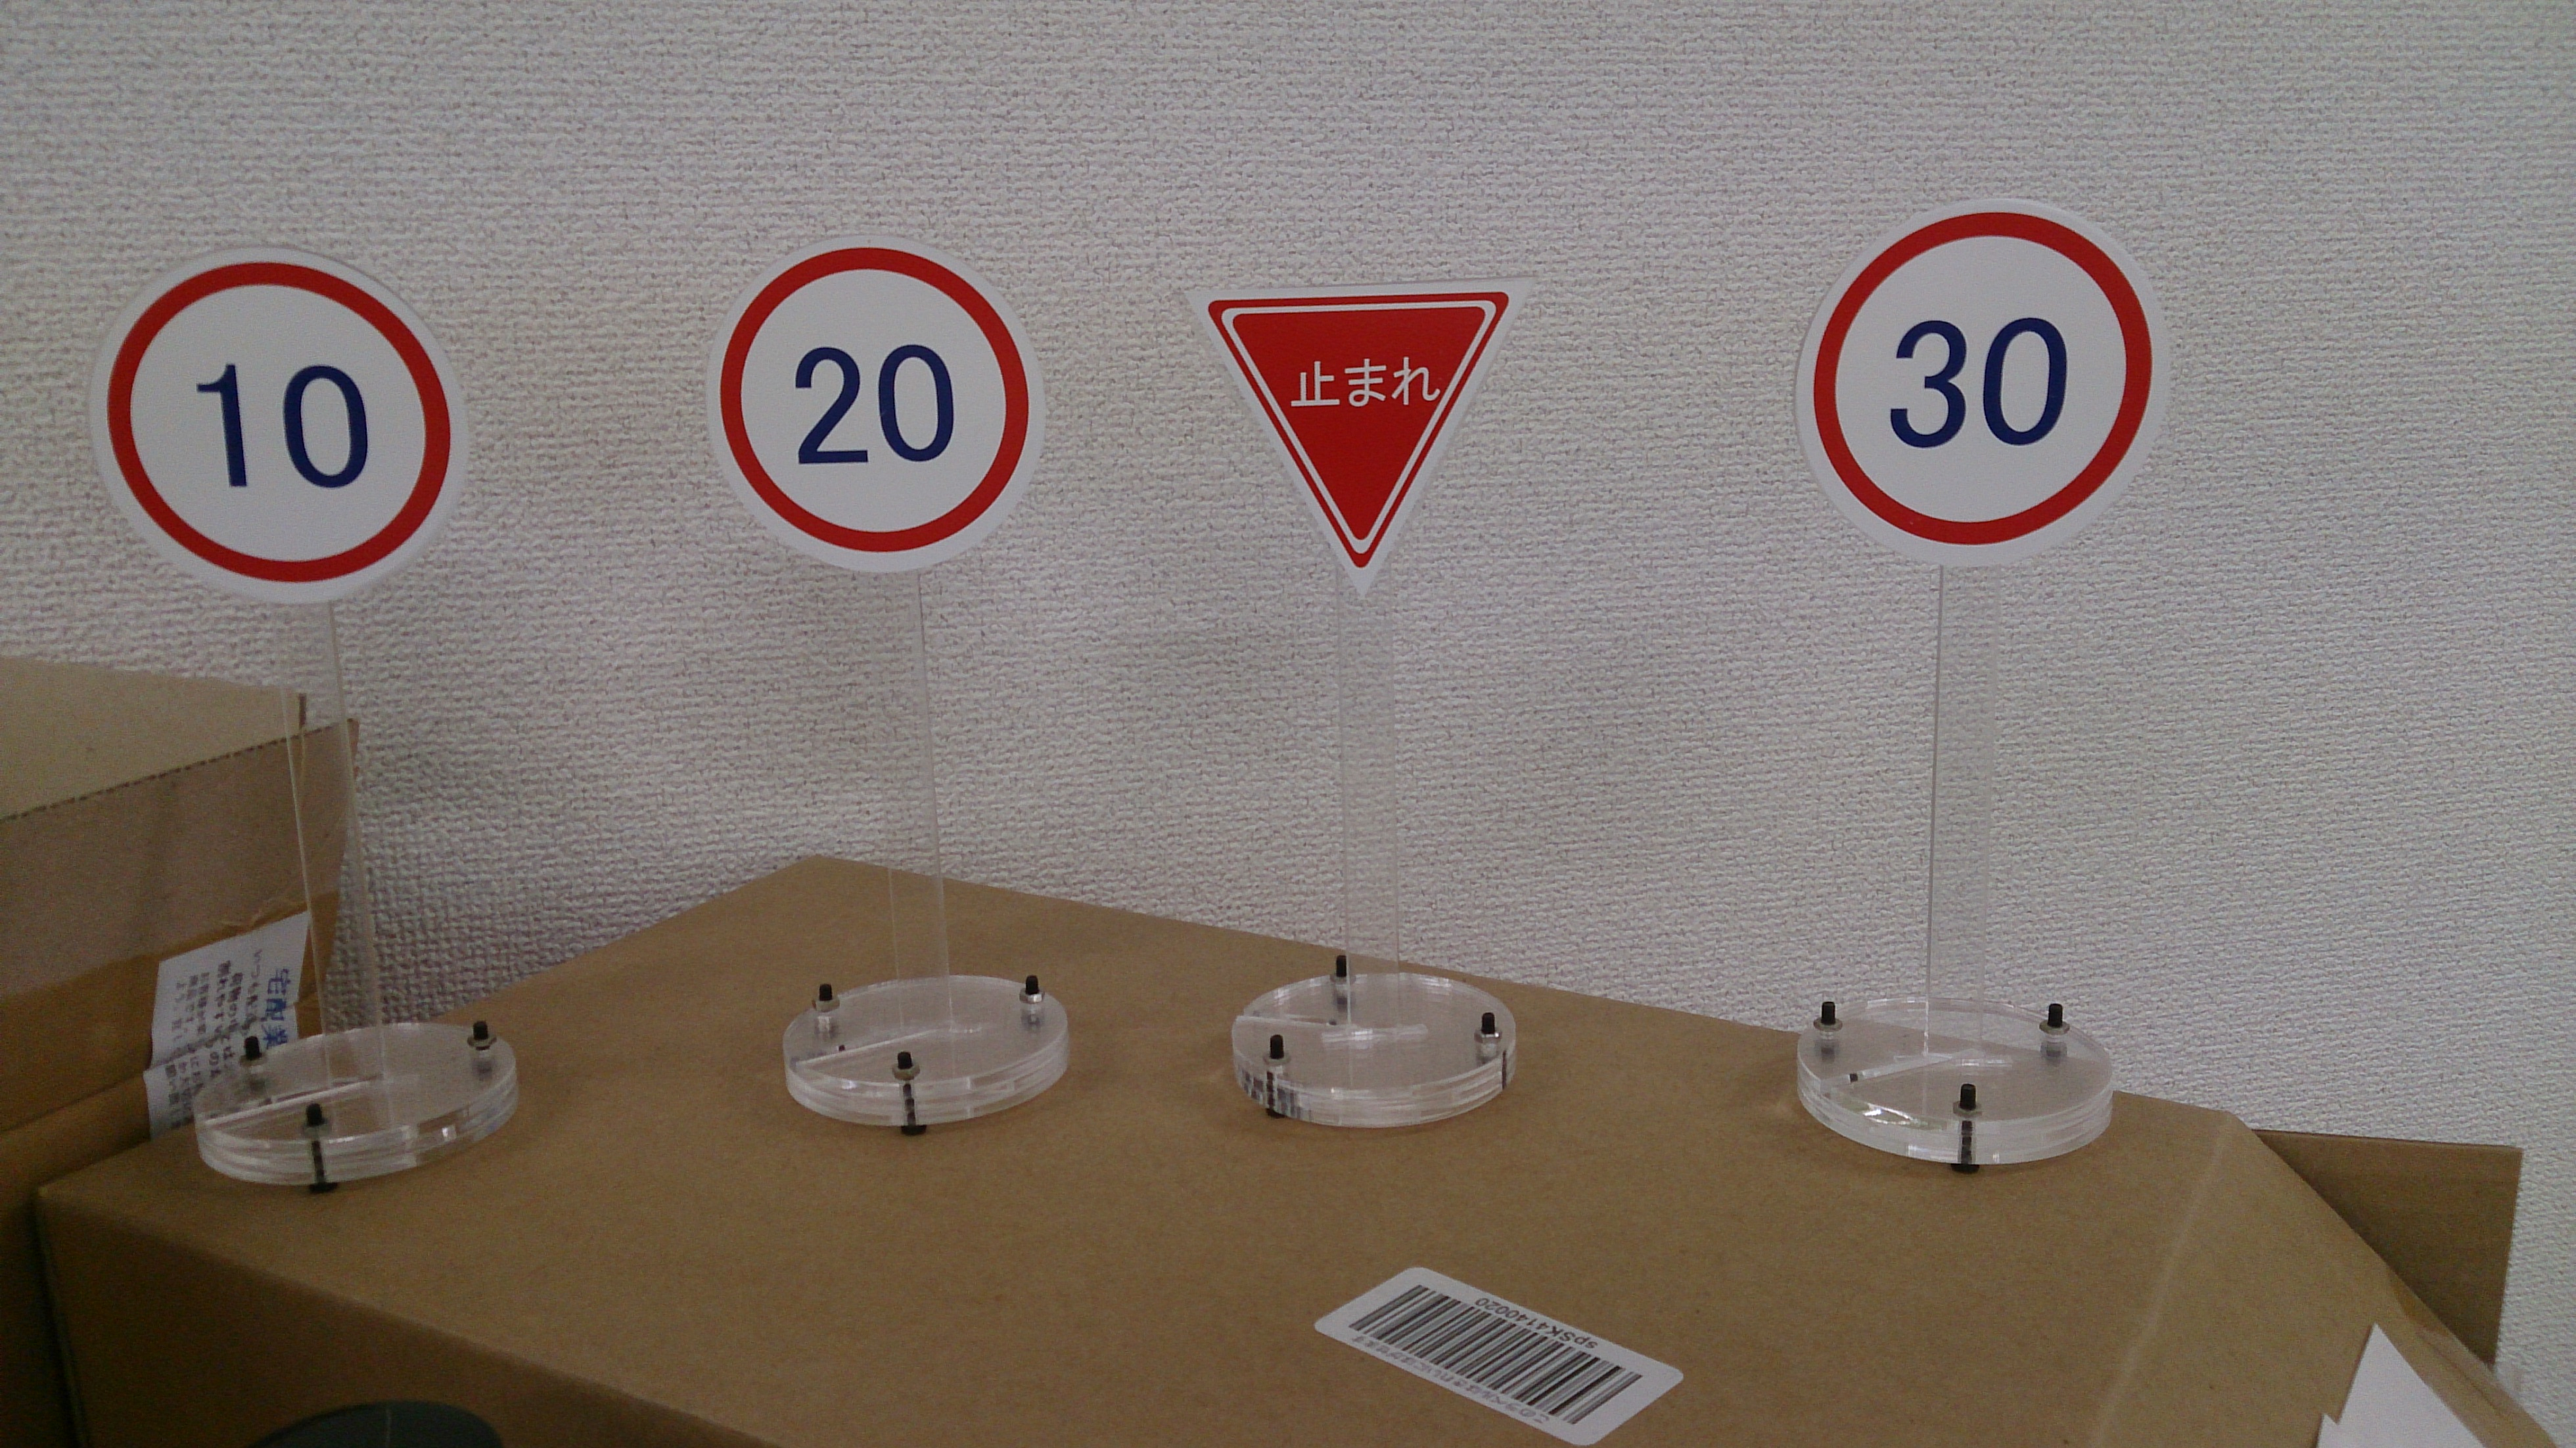speed_10: (92, 248, 464, 603)
speed_20: (701, 237, 1044, 575)
speed_30: (1794, 196, 2167, 562)
stop: (1177, 286, 1532, 585)
